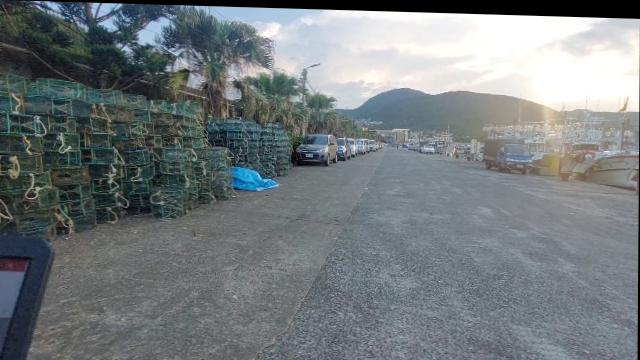pollute: (224, 163, 279, 191)
